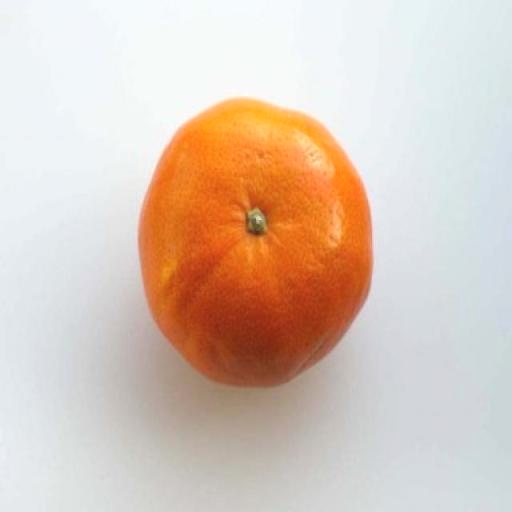fruit: (140, 100, 371, 385)
